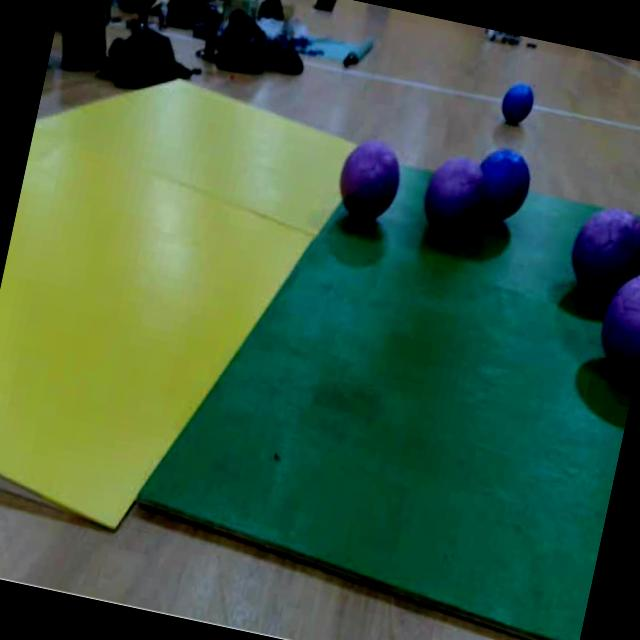blue_ball: (466, 142, 537, 226), (500, 80, 536, 124)
purple_ball: (564, 199, 640, 302), (332, 136, 404, 224), (420, 156, 490, 238), (596, 263, 640, 370)
